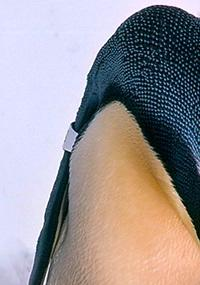Emperor Penguin: (10, 10, 200, 285)
